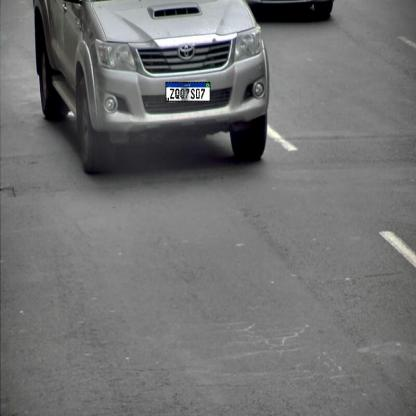PlacaM: (166, 82, 210, 102)
